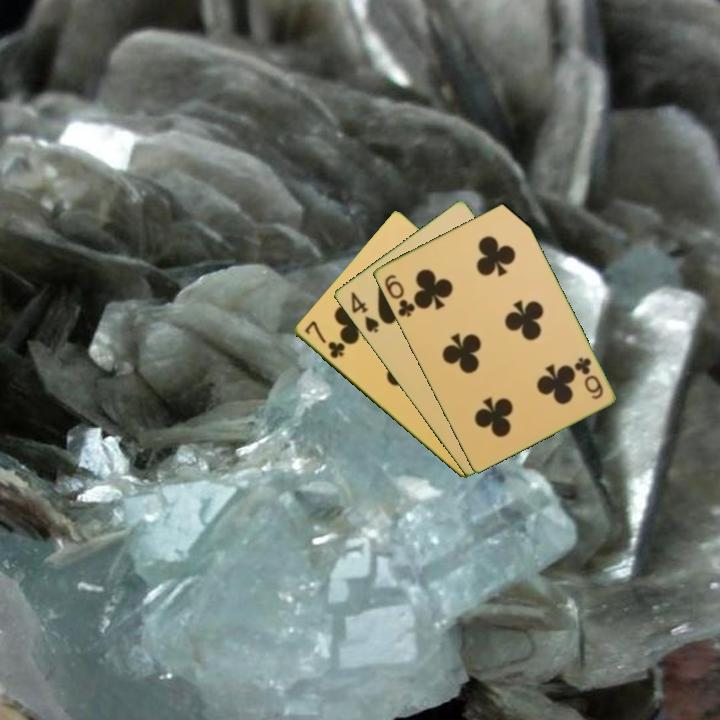4s: (347, 288, 382, 336)
6c: (381, 271, 418, 320), (571, 353, 606, 402)
7c: (300, 317, 348, 362)
